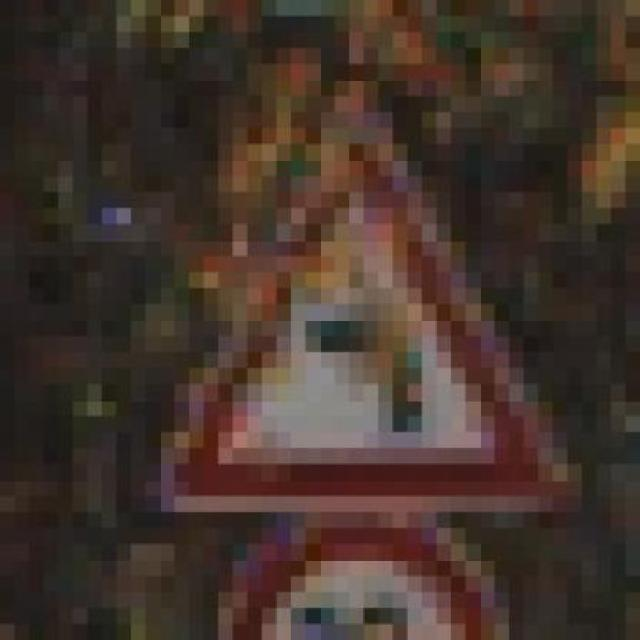Dangerous Left Curve Ahead: (102, 64, 610, 528)
